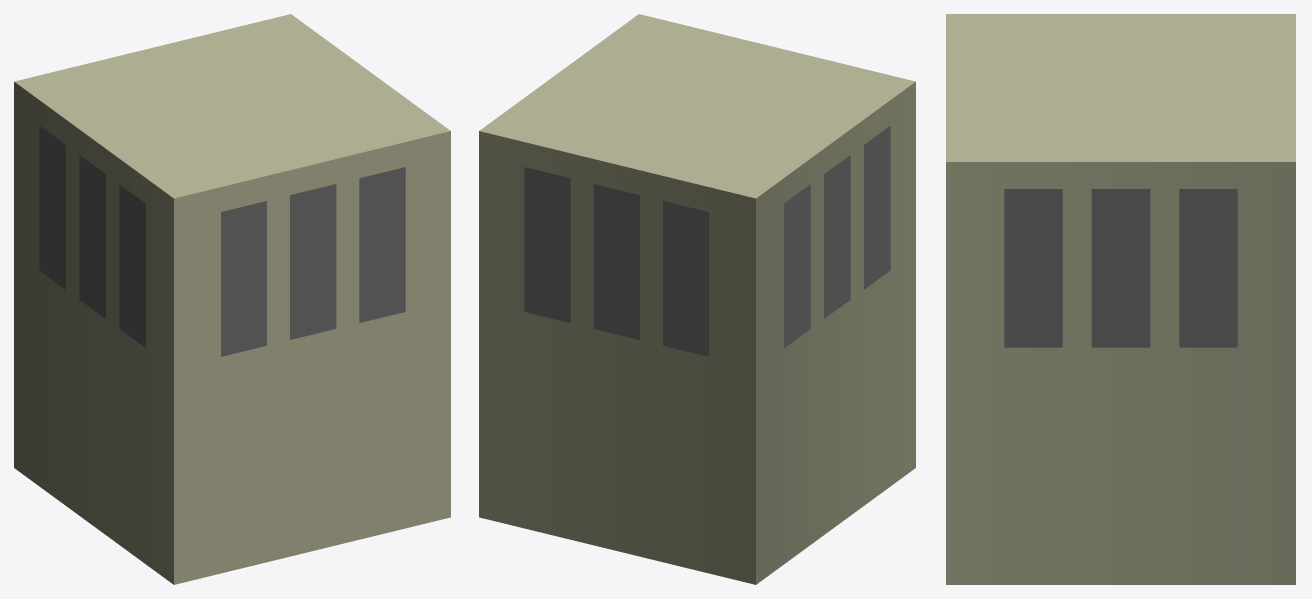
The model's file is building-2-high.glb.
3 views of the same model, side by side, from view 1: azimuth 30°, elevation 25°; view 2: azimuth 150°, elevation 25°; view 3: azimuth 270°, elevation 25° (orthographic). The views are drawn at different scales.
Visible parts, largest first — view 1: mesh0; view 2: mesh0; view 3: mesh0.
Boxes of the visible parts, x1,y1,x2,y2 form: mesh0: (14, 14, 450, 584); mesh0: (479, 14, 915, 584); mesh0: (946, 14, 1295, 584).
Size of the model in its own units: 0.606 by 0.8 by 0.606.
